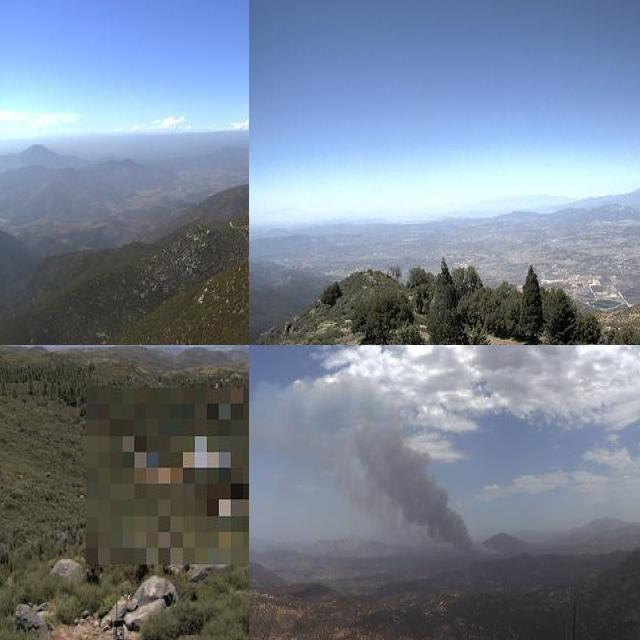smoke: (258, 376, 483, 568)
